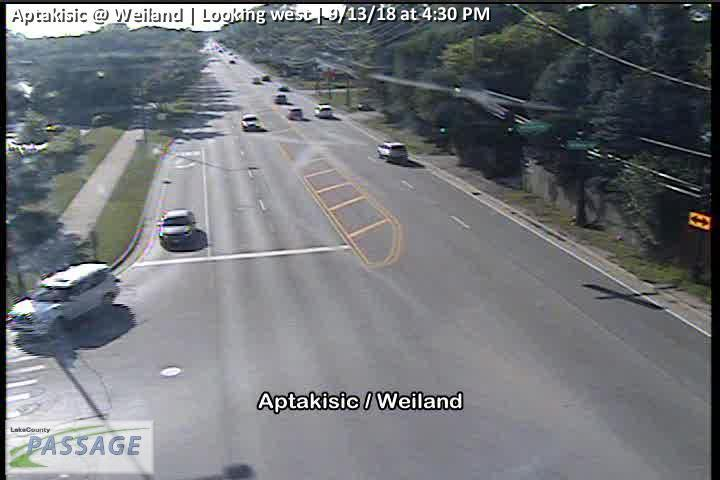SUV: (5, 261, 121, 342), (158, 208, 196, 244), (376, 140, 408, 162)
Sedan: (240, 113, 260, 131)
